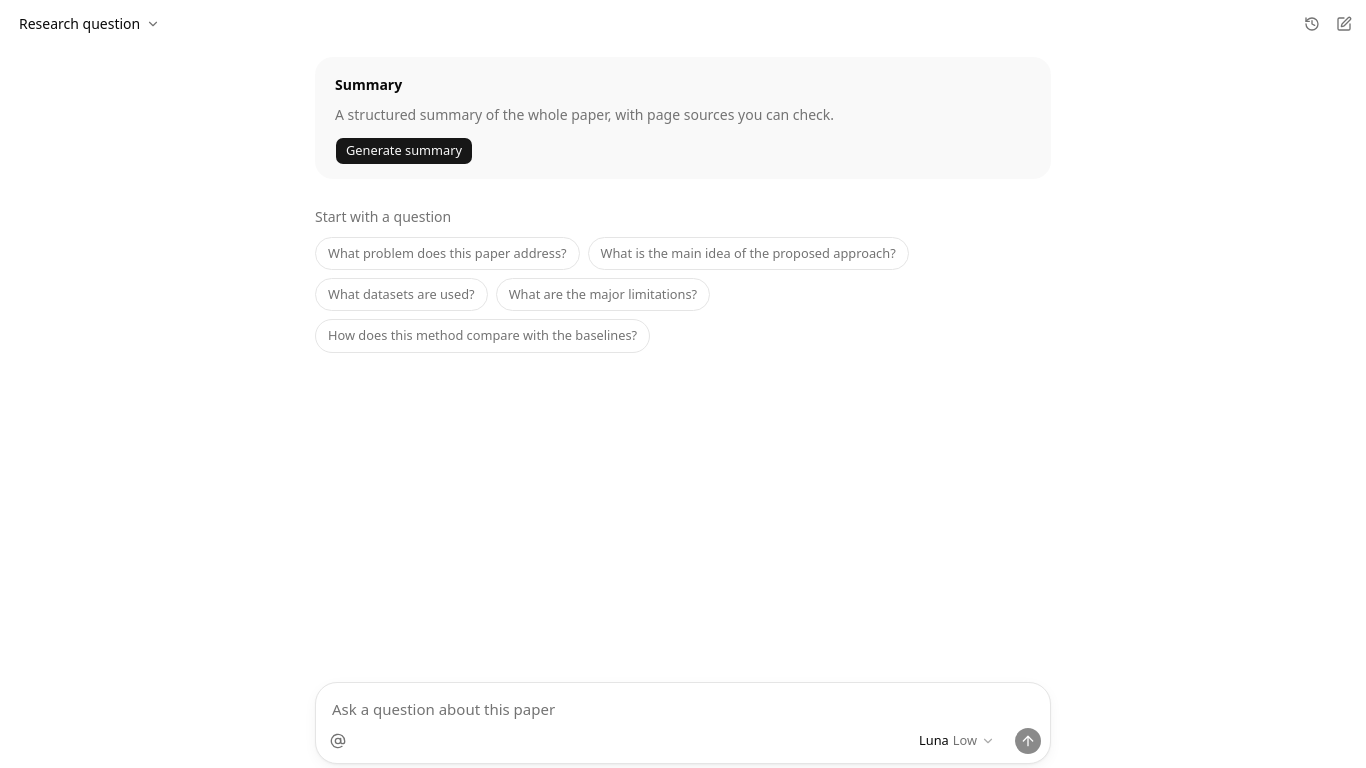
Test: Given a stream that ends without a final event, Then the question is not sent again and the reader is told so
Type "Which datasets?" into the field named "Question about this paper" at (683, 705), box left=316, top=683, right=1050, bottom=727
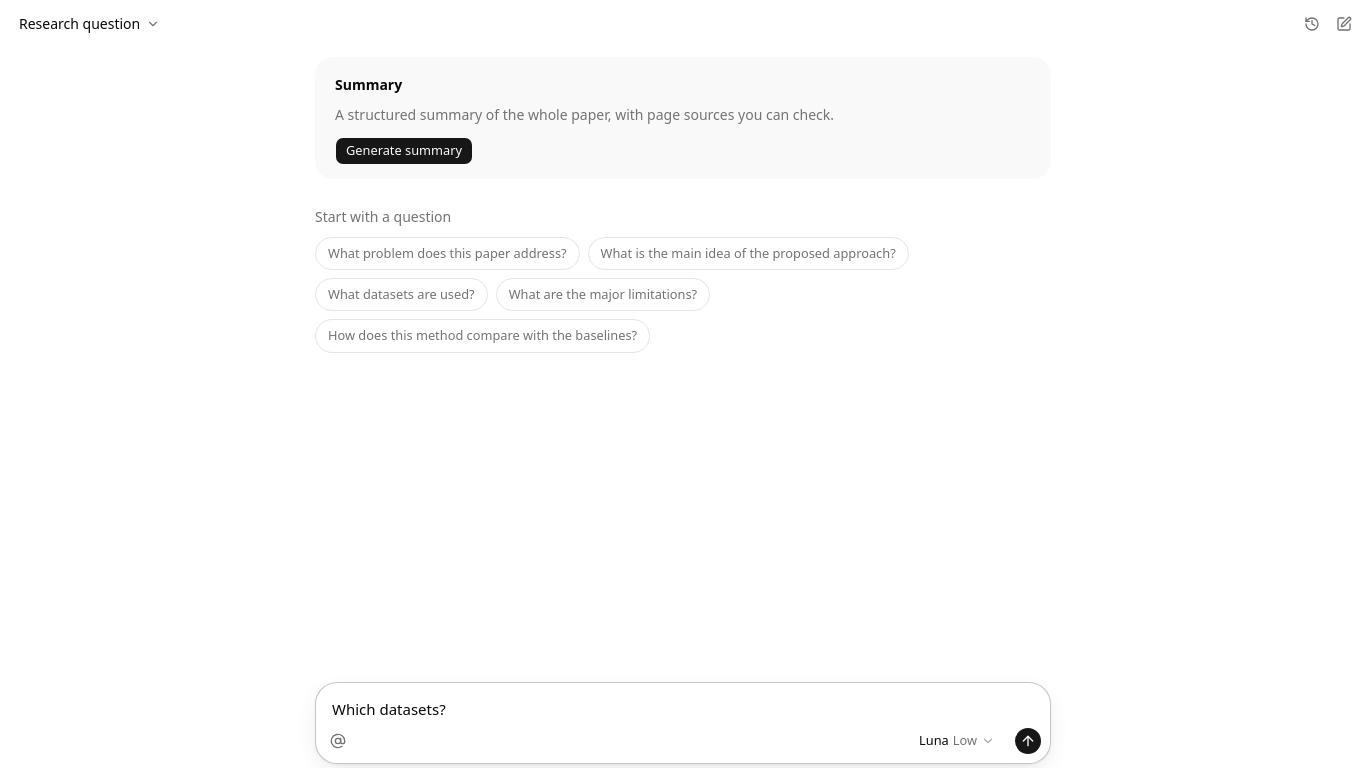
Click the button named "Ask question" at (1028, 741), box left=1014, top=727, right=1042, bottom=755
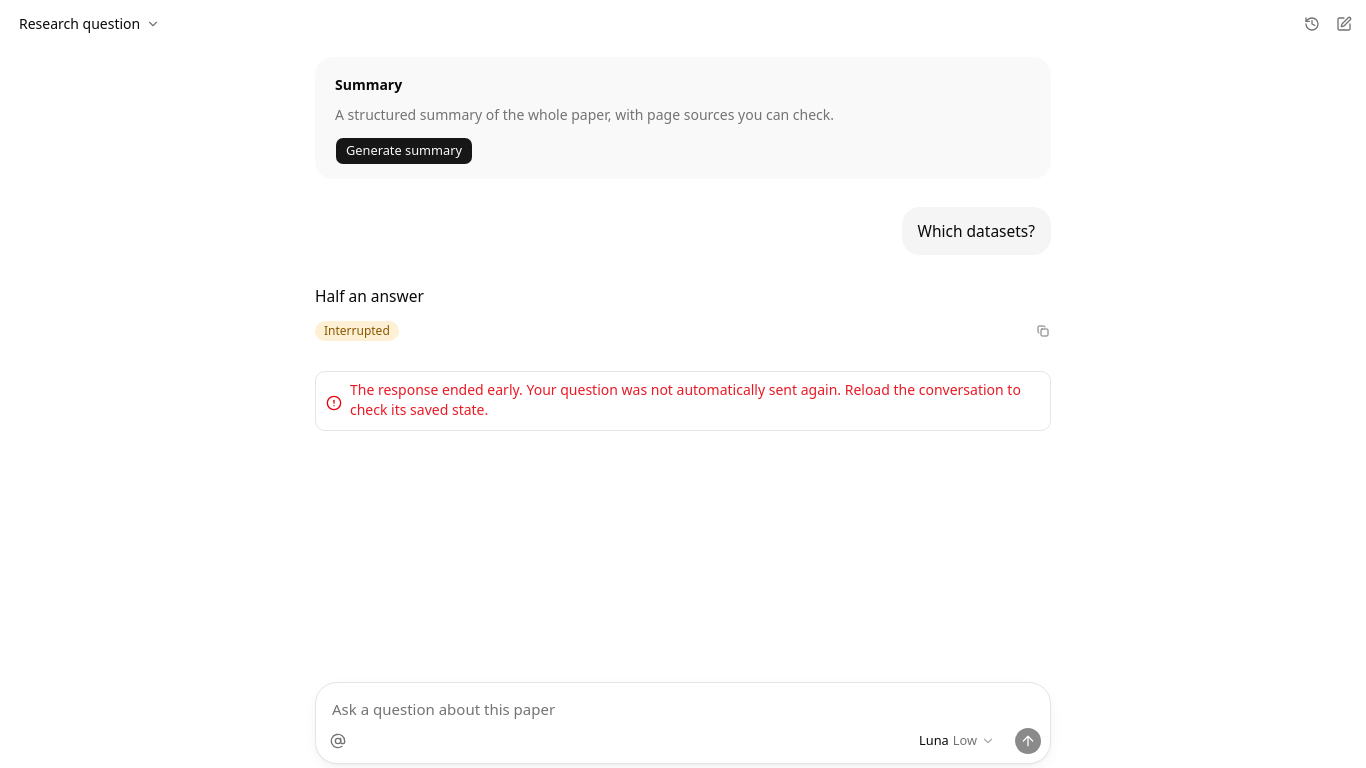
Result: the message shows "Your question was not automatically sent again." at left=350, top=380, right=1021, bottom=419
